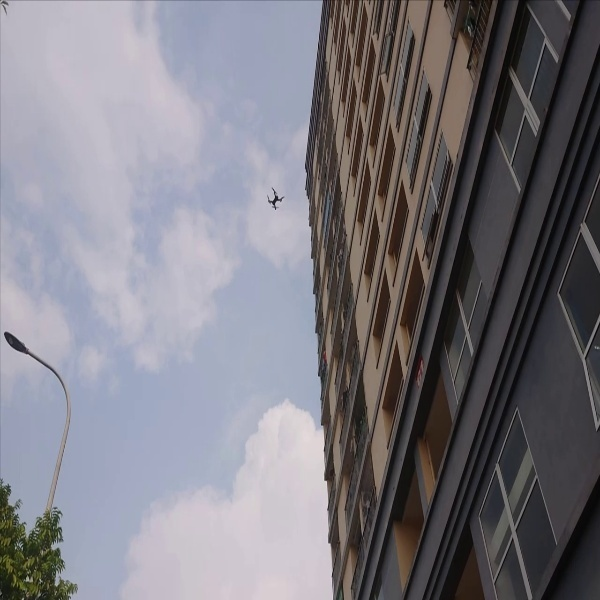drone: (263, 181, 288, 213)
